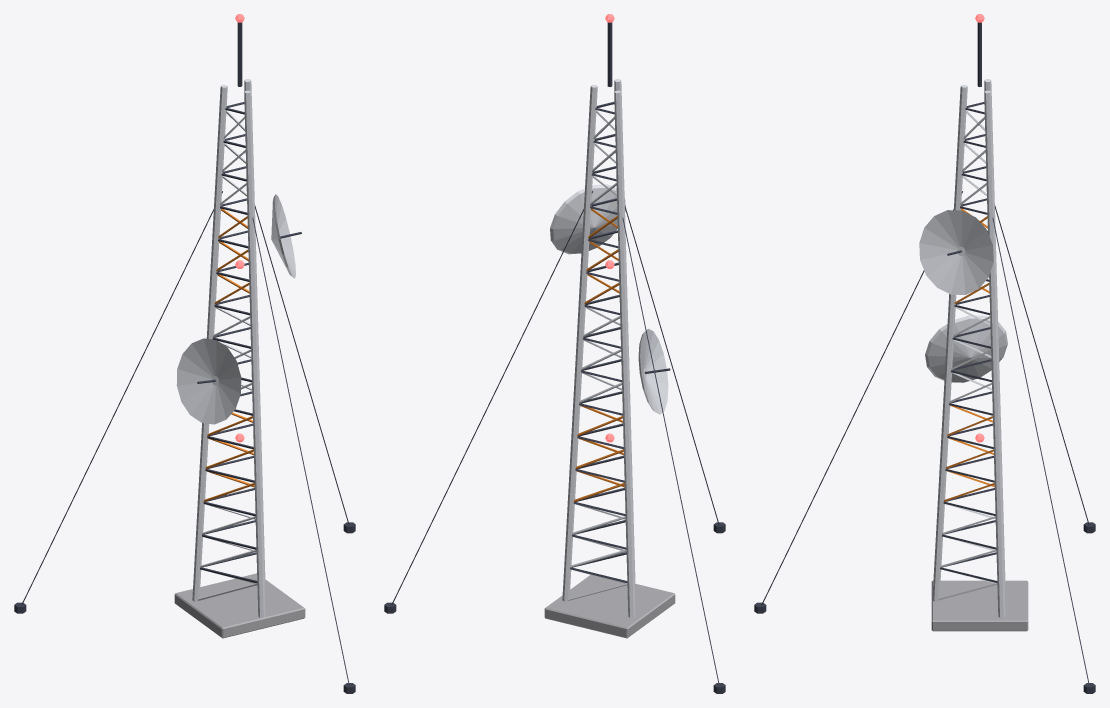
File: CommTower.fbx
The picture shows the model from 3 angles, left to right: view 1: azimuth 30°, elevation 25°; view 2: azimuth 150°, elevation 25°; view 3: azimuth 270°, elevation 25°; orthographic projection.
Visible parts, largest first — view 1: CommTower_MoonWhite, CommTower_MoonDark, CommTower_Concrete, CommTower_Orange; view 2: CommTower_MoonWhite, CommTower_MoonDark, CommTower_Concrete, CommTower_Orange; view 3: CommTower_MoonWhite, CommTower_MoonDark, CommTower_Concrete, CommTower_Orange.
Part boxes in pixels (box(x1,y1,x2,y2)): CommTower_MoonWhite: box(176, 79, 295, 617); CommTower_MoonDark: box(14, 22, 355, 693); CommTower_Concrete: box(174, 573, 305, 638); CommTower_Orange: box(203, 208, 254, 501); CommTower_MoonWhite: box(550, 79, 668, 617); CommTower_MoonDark: box(384, 22, 725, 693); CommTower_Concrete: box(544, 575, 675, 638); CommTower_Orange: box(573, 208, 624, 501); CommTower_MoonWhite: box(919, 79, 1007, 617); CommTower_MoonDark: box(754, 22, 1095, 693); CommTower_Concrete: box(931, 580, 1028, 631); CommTower_Orange: box(943, 208, 994, 501).
Bounding box in the file's own units: 32.39 × 54.6 × 28.3.
